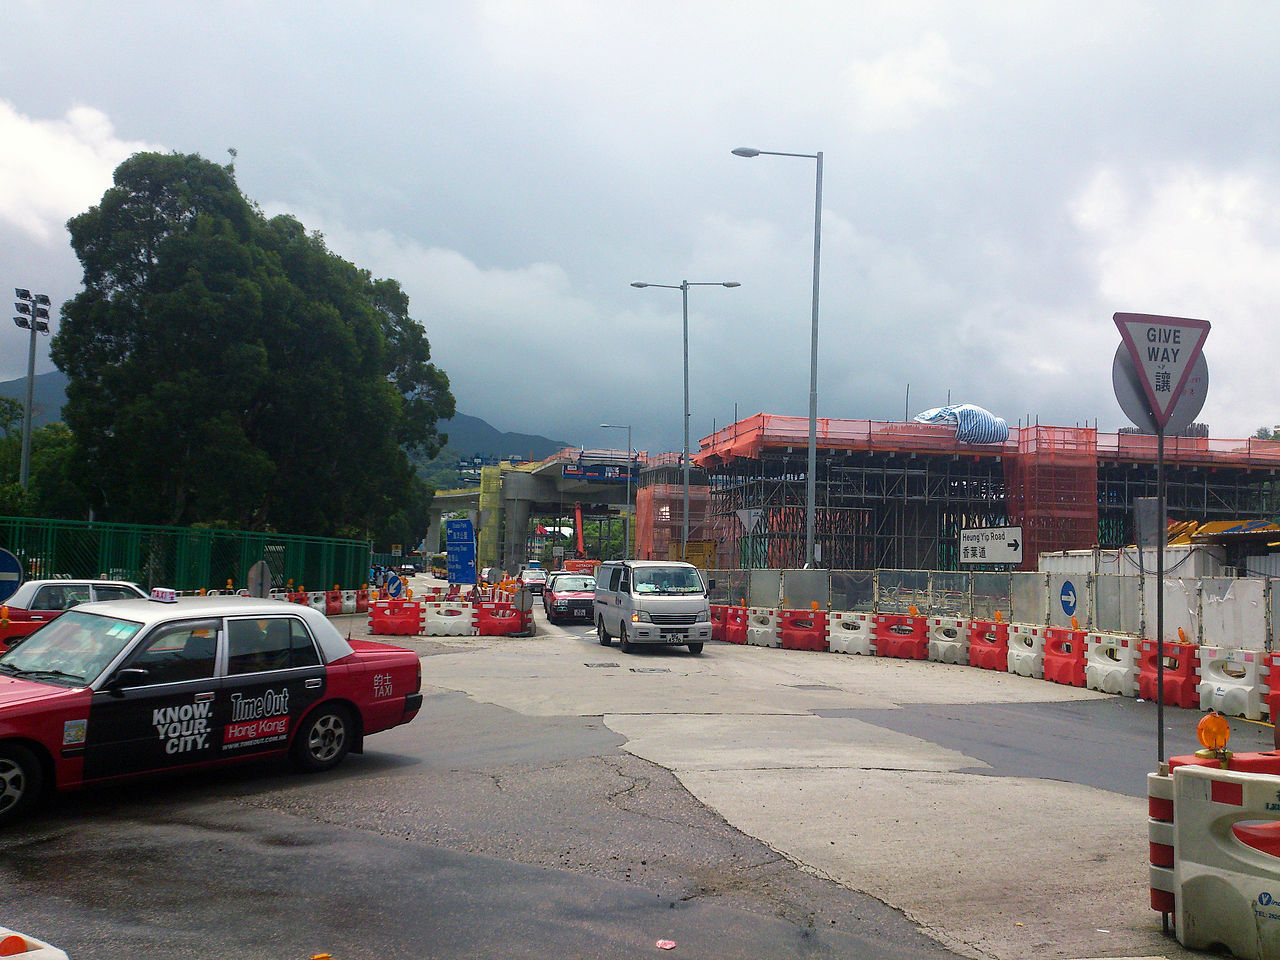Give Way: (1097, 303, 1217, 430)
